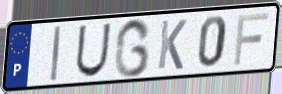0: (196, 14, 229, 70)
F: (231, 11, 271, 68)
G: (112, 17, 153, 80)
I: (49, 24, 63, 83)
K: (155, 18, 189, 72)
U: (74, 22, 114, 80)
